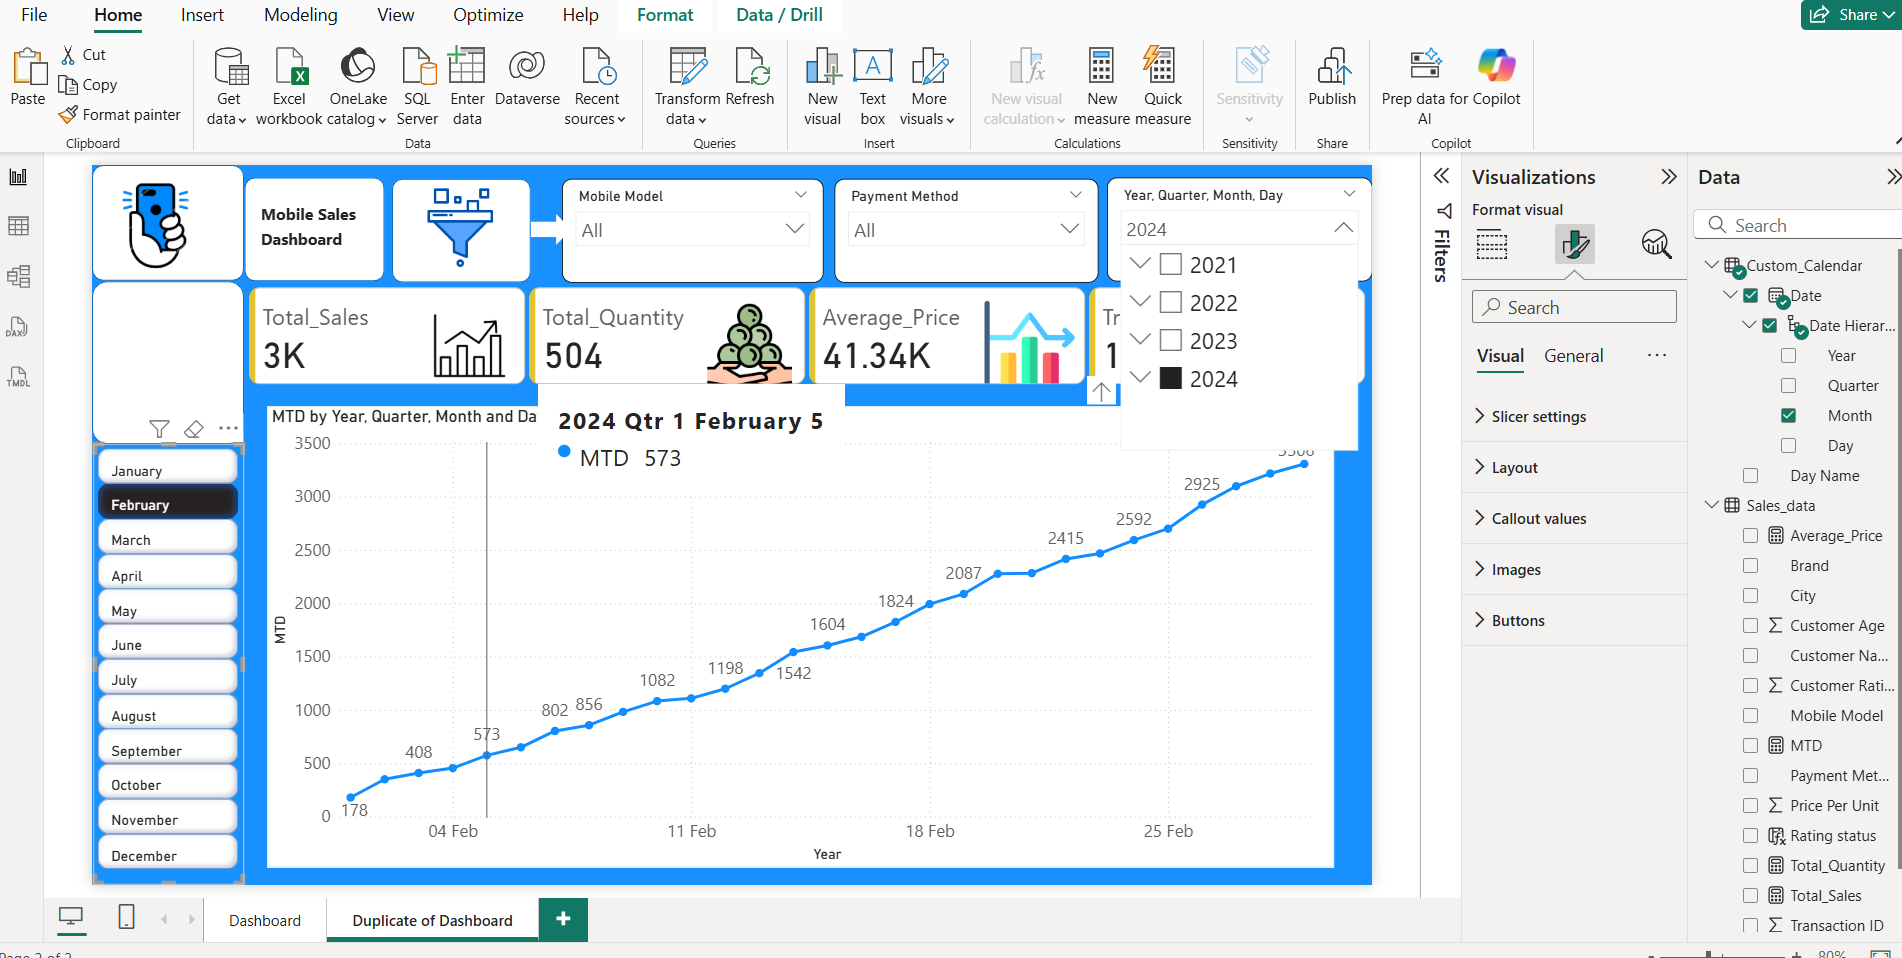

What the dashboard file says about the page in this screenshot:
{"tool":"powerbi","page":{"name":"MTD Report","canvas":[1280,720],"ordinal":1},"visuals":[{"type":"shape","box":[0,0,152,115.8],"z":0},{"type":"image","box":[0,0,127.9,127.9],"z":1000},{"type":"shape","box":[0,115.8,152,162.9],"z":2000},{"type":"cardVisual","fields":{"Data":["Sales_data.Total_Sales","Sales_data.Total_Quantity","Sales_data.Average_Price","Sales_data.Transactions"]},"box":[152,115.8,1128,107.4],"z":3000},{"type":"slicer","fields":{"Values":["Sales_data.Mobile Model"]},"box":[459.7,0,261.8,103.8],"z":4000},{"type":"slicer","fields":{"Values":["Sales_data.Payment Method"]},"box":[732.3,0,264.2,103.8],"z":5000},{"type":"slicer","fields":{"Values":["Custom_Calendar.Date.Variation.Date Hierarchy.Year","Custom_Calendar.Date.Variation.Date Hierarchy.Quarter","Custom_Calendar.Date.Variation.Date Hierarchy.Month","Custom_Calendar.Date.Variation.Date Hierarchy.Day"]},"box":[1006.2,0,265.4,103.8],"z":6000},{"type":"shape","box":[300.4,0,138.7,103.8],"z":7000},{"type":"image","box":[279.9,0,182.2,90.5],"z":8000},{"type":"shape","box":[421,36.2,41,31.4],"z":9000},{"type":"shape","box":[153.2,0,139.9,103.8],"z":10000},{"type":"textbox","box":[164.1,30.2,117,68.8],"z":11000},{"type":"lineChart","fields":{"Y":["Sales_data.MTD"],"Category":["Custom_Calendar.Date.Variation.Date Hierarchy.Year","Custom_Calendar.Date.Variation.Date Hierarchy.Quarter","Custom_Calendar.Date.Variation.Date Hierarchy.Month","Custom_Calendar.Date.Variation.Date Hierarchy.Day"]},"box":[164.1,238.9,1093,463.3],"z":12000},{"type":"advancedSlicerVisual","fields":{"Values":["Custom_Calendar.Date.Variation.Date Hierarchy.Month"]},"box":[0,278.7,152,441.6],"z":13000},{"type":"pageNavigator","box":[6,142.4,136.3,119.4],"z":14000}]}

Visuals, with their boxes on the page's 1280x720 design canvas (x1, y1, x2, y2). These are canvas units, not pixel positions in the 1902x958 screenshot, which may show the page scaled, cropped or inside an application window:
shape: left=0, top=0, right=152, bottom=116
image: left=0, top=0, right=128, bottom=128
shape: left=0, top=116, right=152, bottom=279
cardVisual - Sales_data.Total_Sales x Sales_data.Total_Quantity: left=152, top=116, right=1280, bottom=223
slicer - Sales_data.Mobile Model: left=460, top=0, right=722, bottom=104
slicer - Sales_data.Payment Method: left=732, top=0, right=996, bottom=104
slicer - Custom_Calendar.Date.Variation.Date Hierarchy.Year x Custom_Calendar.Date.Variation.Date Hierarchy.Quarter: left=1006, top=0, right=1272, bottom=104
shape: left=300, top=0, right=439, bottom=104
image: left=280, top=0, right=462, bottom=90
shape: left=421, top=36, right=462, bottom=68
shape: left=153, top=0, right=293, bottom=104
textbox: left=164, top=30, right=281, bottom=99
lineChart - Sales_data.MTD x Custom_Calendar.Date.Variation.Date Hierarchy.Year: left=164, top=239, right=1257, bottom=702
advancedSlicerVisual - Custom_Calendar.Date.Variation.Date Hierarchy.Month: left=0, top=279, right=152, bottom=720
pageNavigator: left=6, top=142, right=142, bottom=262
